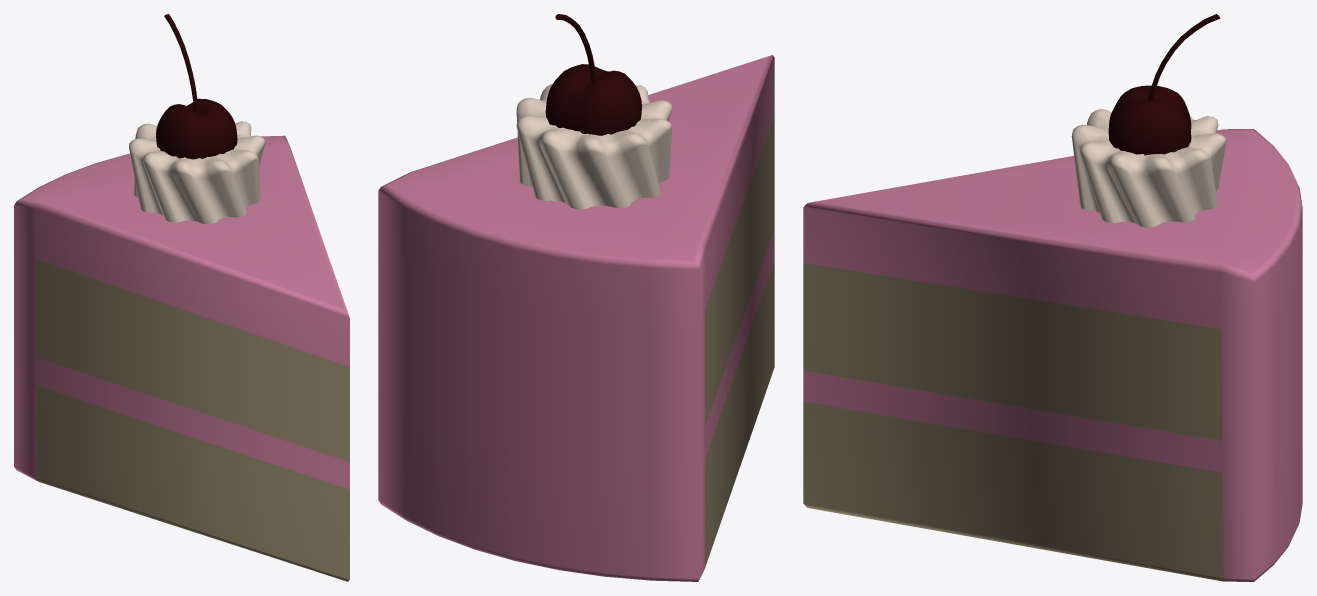
File: Cake.fbx
3 views of the same model, side by side, from view 1: azimuth 30°, elevation 25°; view 2: azimuth 150°, elevation 25°; view 3: azimuth 270°, elevation 25° (orthographic). The views are drawn at different scales.
Parts seen in each view (by area): view 1: Cake; view 2: Cake; view 3: Cake.
Boxes of the visible parts, x1=… form: Cake: x1=14, y1=14, x2=349, y2=581; Cake: x1=378, y1=14, x2=774, y2=581; Cake: x1=803, y1=14, x2=1302, y2=581.
Bounding box in the file's own units: 0.9136 × 1.41 × 1.28.
